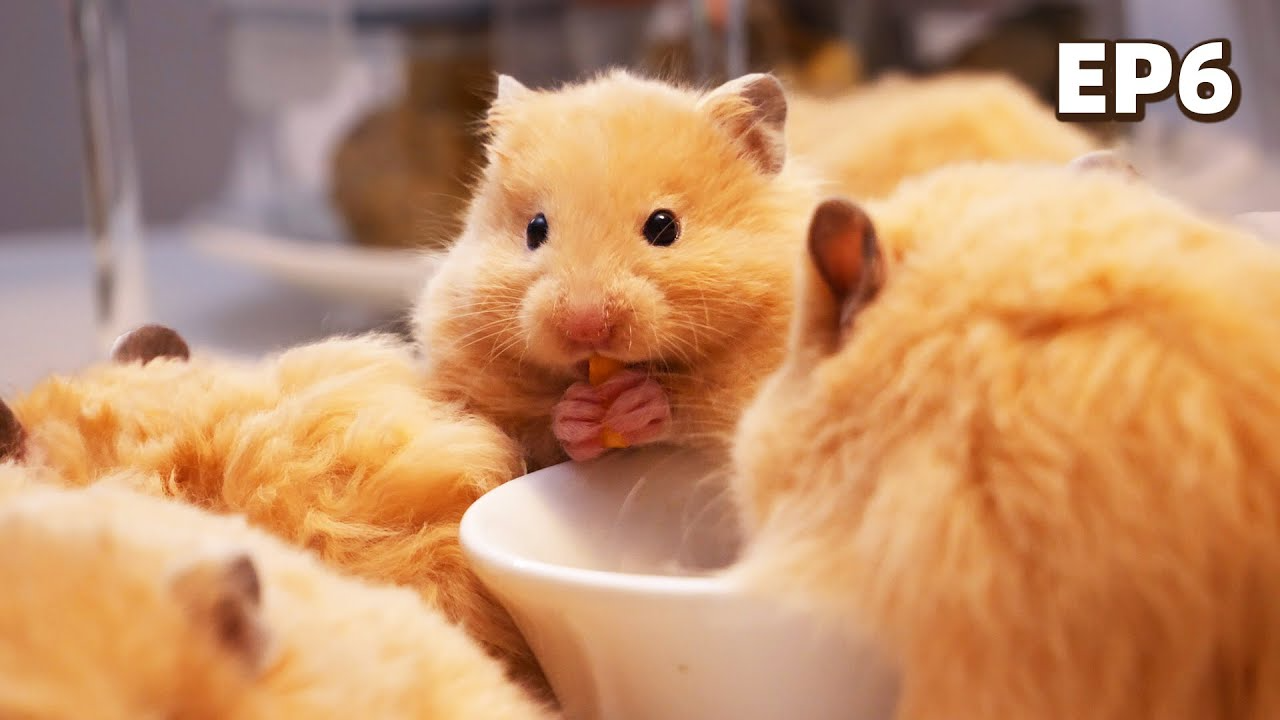hamester: (434, 63, 780, 435)
